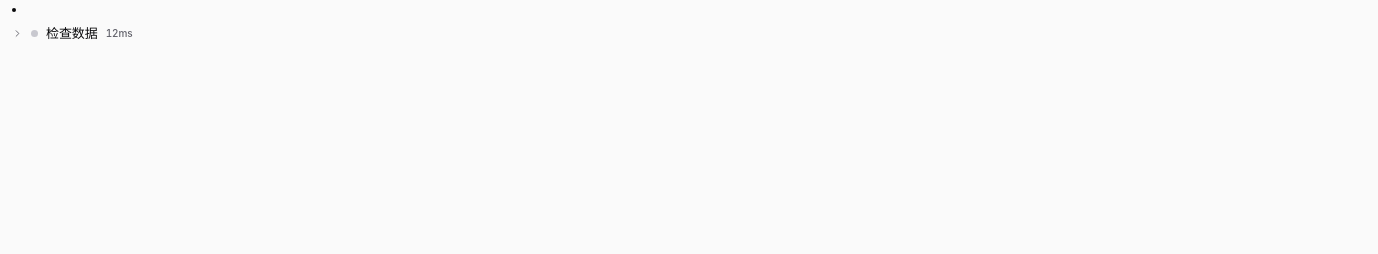
Scenario: ToolTraceItem › 点击行展开输入输出，再点收起
Click the button with class "tool-trace-row" at (72, 33), box x1=12 y1=24 x2=133 y2=42
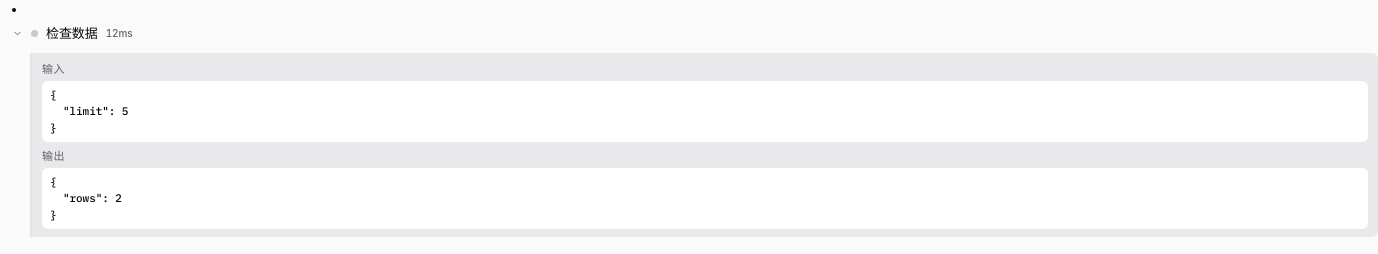
Expected: the element with class "tool-trace-detail" is shown
Expected: the text "输入" is shown, x1=42 y1=62 x2=65 y2=76
Expected: the text "输出" is shown, x1=42 y1=149 x2=65 y2=163
Click the button with class "tool-trace-row" at (72, 33), box x1=12 y1=24 x2=133 y2=42
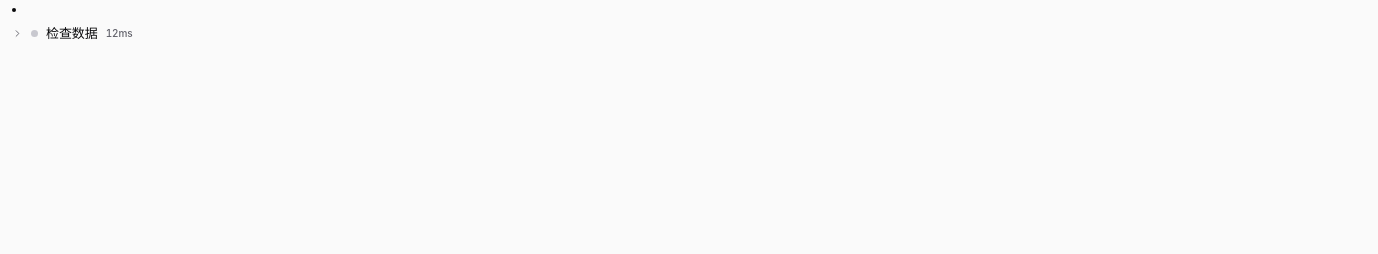
Expected: the element with class "tool-trace-detail" is gone
